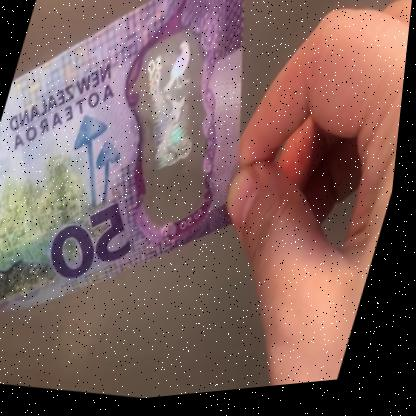50B: (107, 33, 235, 232)
